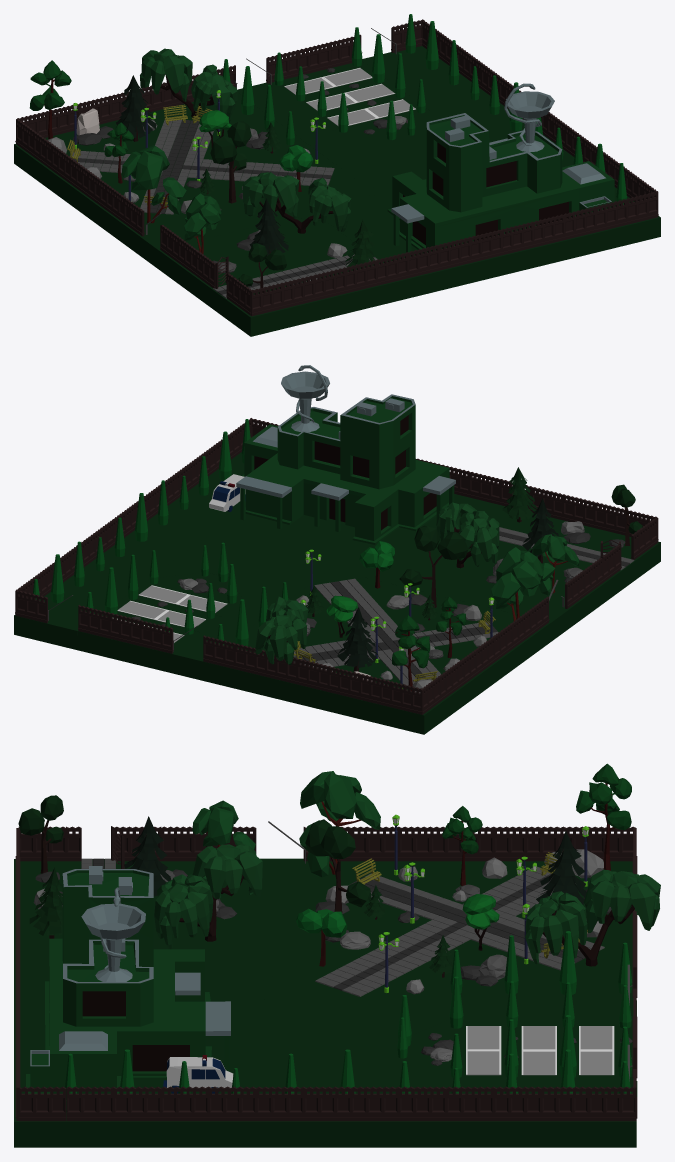
The model's file is Clinic.FBX.
The picture shows the model from 3 angles, top to bottom: view 1: azimuth 30°, elevation 25°; view 2: azimuth 150°, elevation 25°; view 3: azimuth 270°, elevation 25°; orthographic projection. The views are drawn at different scales.
Parts seen in each view (by area): view 1: Clinic; view 2: Clinic; view 3: Clinic.
Part boxes in pixels (x1,y1,x2,y2): Clinic: (14,14,660,336); Clinic: (14,365,660,734); Clinic: (14,763,660,1147).
Size of the model in its own units: 20163 by 6923 by 20777.
